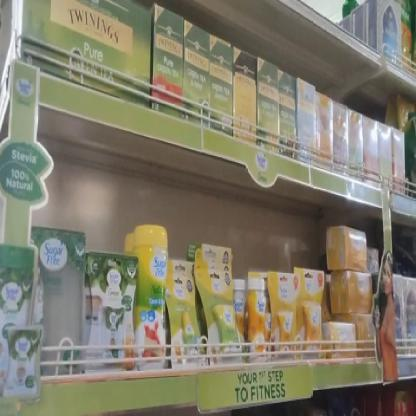SUGAR FREE GOLD 500 PELLET: (270, 274, 298, 362), (297, 276, 325, 356)
SUGAR FREE GOLD POWDER 100GM: (247, 276, 267, 366)
SUGAR FREE GOLD SACHET 50 SUGAR FREE GOLD SACHET 50: (347, 274, 373, 313), (346, 232, 368, 272)
SUGAR FREE GRN 300 PELLET: (86, 254, 136, 369)
SUGAR FREE NATURA 500 PELLET: (201, 271, 237, 365)
SUGAR FREE NATURA DIET SUGAR: (135, 226, 166, 368)
SUGAR FREE NATURA SWEET DROPS: (172, 288, 198, 362)
